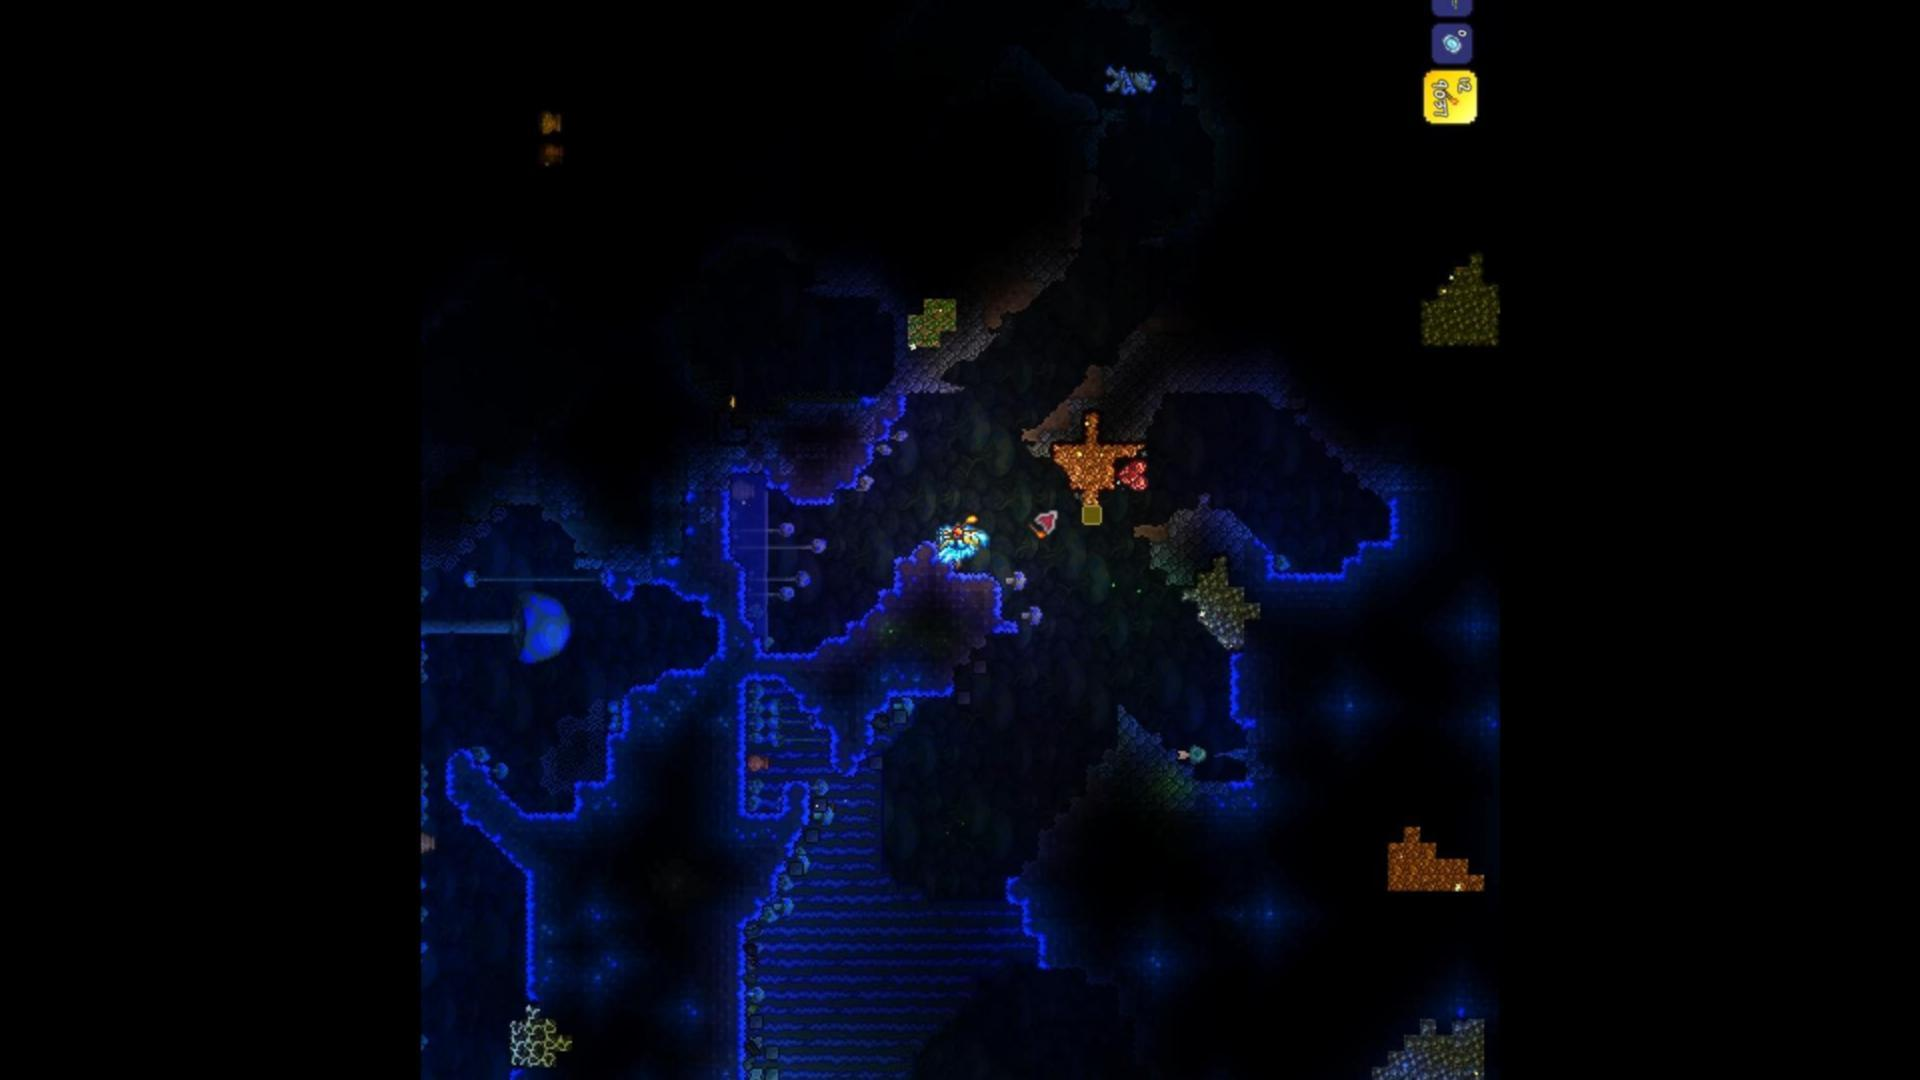lifeC: (1116, 459, 1147, 492)
mirror: (1436, 30, 1464, 58)
pot: (746, 756, 775, 773)
